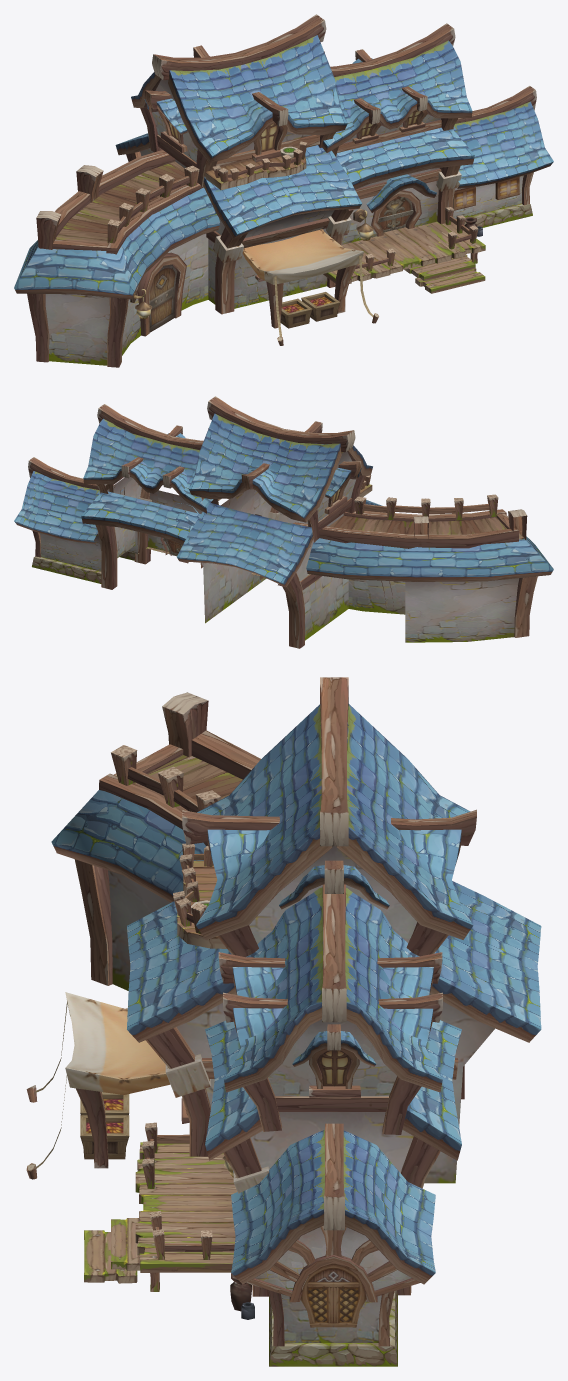
The model's file is Map_04_house01.FBX.
3 renders of one model, top to bottom at view 1: azimuth 30°, elevation 25°; view 2: azimuth 150°, elevation 25°; view 3: azimuth 270°, elevation 25°, orthographic. The views are drawn at different scales.
Visible parts, largest first — view 1: Map_04_house01; view 2: Map_04_house01; view 3: Map_04_house01.
Boxes of the visible parts, <box> form: Map_04_house01: <box>14,14,553,367</box>; Map_04_house01: <box>14,396,553,648</box>; Map_04_house01: <box>26,677,541,1366</box>.
Size of the model in its own units: 176 by 68.76 by 81.31.
1 material, 1 textured.
